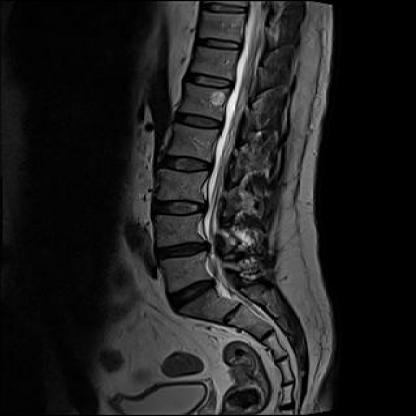Degenerative Disc Diseaserotation: (159, 281, 224, 307), (152, 240, 216, 264)
Disc Bulgerotation: (149, 237, 216, 265)
Disc Relaxationrotation: (146, 194, 211, 224)
